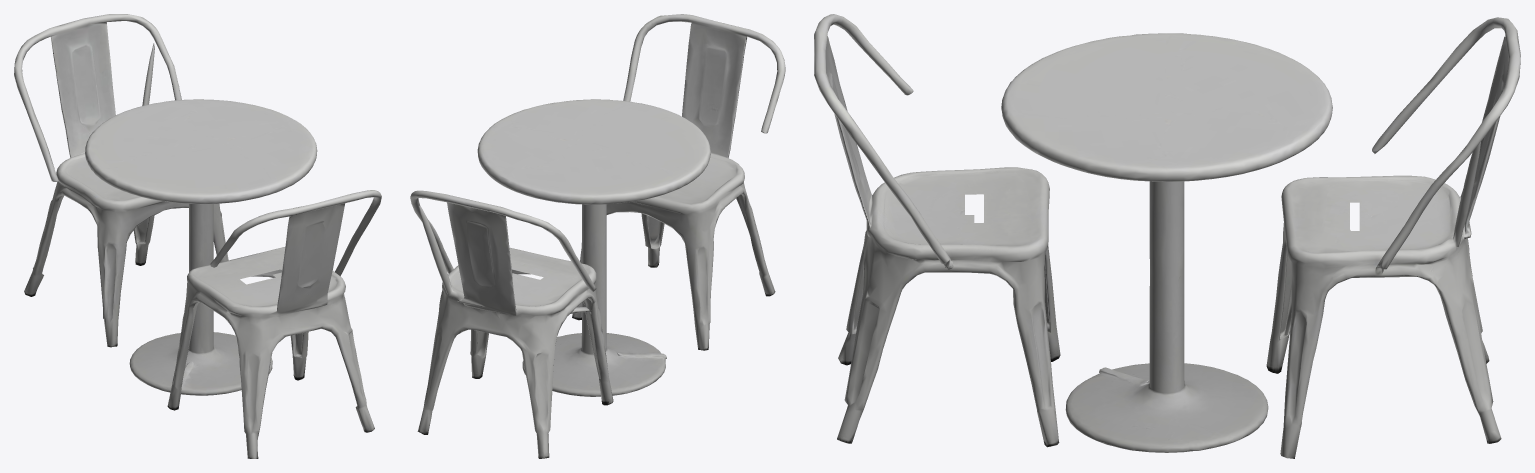
The model's file is cafe_table.glb.
The picture shows the model from 3 angles, left to right: view 1: azimuth 30°, elevation 25°; view 2: azimuth 150°, elevation 25°; view 3: azimuth 270°, elevation 25°; orthographic projection. The views are drawn at different scales.
Visible parts, largest first — view 1: tripo_node_b5bcb5d0-2aa3-4e2e-a551-1486666dd3e4; view 2: tripo_node_b5bcb5d0-2aa3-4e2e-a551-1486666dd3e4; view 3: tripo_node_b5bcb5d0-2aa3-4e2e-a551-1486666dd3e4.
Boxes of the visible parts, x1,y1,x2,y2 form: tripo_node_b5bcb5d0-2aa3-4e2e-a551-1486666dd3e4: [14, 14, 381, 458]; tripo_node_b5bcb5d0-2aa3-4e2e-a551-1486666dd3e4: [410, 14, 785, 458]; tripo_node_b5bcb5d0-2aa3-4e2e-a551-1486666dd3e4: [814, 14, 1520, 458].
Size of the model in its own units: 0.4666 by 0.5665 by 1.
1 material, 1 textured.
